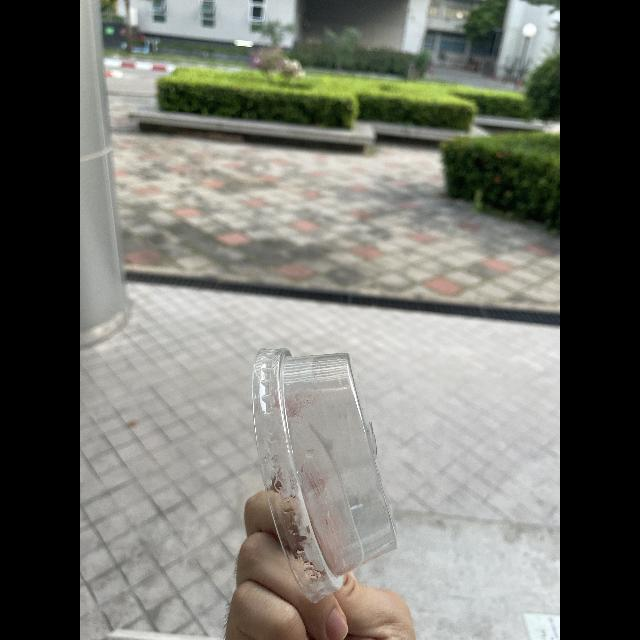plastic_cup_lid: (240, 337, 408, 611)
